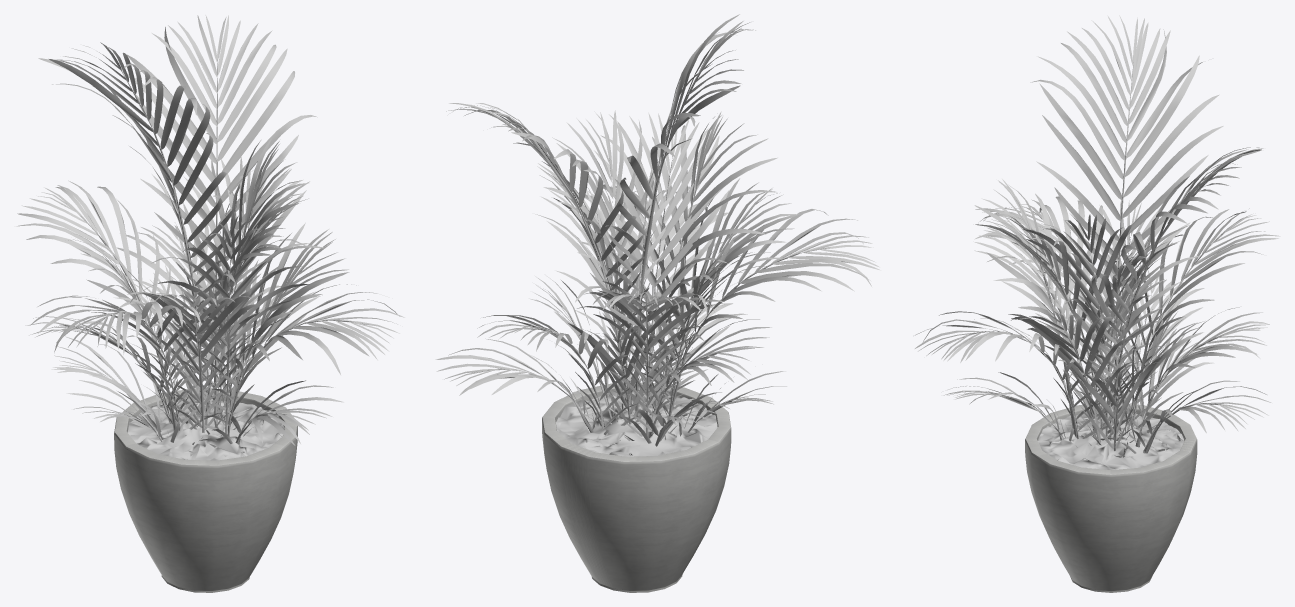
File: VasoPlanta1.fbx
3 renders of one model, left to right at view 1: azimuth 30°, elevation 25°; view 2: azimuth 150°, elevation 25°; view 3: azimuth 270°, elevation 25°, orthographic. The views are drawn at different scales.
Parts seen in each view (by area): view 1: MT_PM_Dypsis_lutescens_02_01, polySurface1, polySurface2; view 2: MT_PM_Dypsis_lutescens_02_01, polySurface1, polySurface2; view 3: MT_PM_Dypsis_lutescens_02_01, polySurface1, polySurface2.
Boxes of the visible parts, x1,y1,x2,y2 form: MT_PM_Dypsis_lutescens_02_01: (16, 15, 404, 447); polySurface1: (114, 388, 297, 592); polySurface2: (127, 398, 284, 460); MT_PM_Dypsis_lutescens_02_01: (435, 14, 880, 446); polySurface1: (542, 382, 731, 592); polySurface2: (556, 390, 717, 456); MT_PM_Dypsis_lutescens_02_01: (915, 15, 1280, 457); polySurface1: (1025, 404, 1197, 592); polySurface2: (1038, 409, 1184, 469).
Size of the model in its own units: 1.4 by 2.24 by 1.46.
